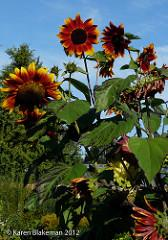sunflower: (2, 62, 58, 121), (57, 15, 99, 58), (130, 195, 168, 240)
